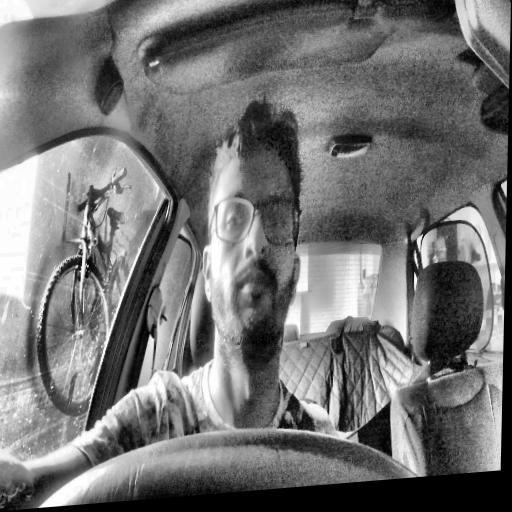awake: (200, 93, 306, 359)
